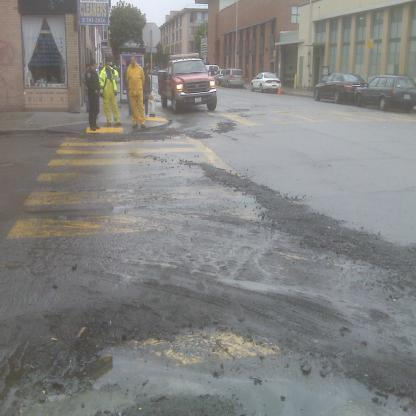Car: (157, 50, 217, 104), (356, 72, 415, 112), (312, 72, 365, 100), (249, 72, 284, 90), (222, 68, 243, 86), (214, 68, 220, 83)
Truck: (156, 51, 218, 106)
